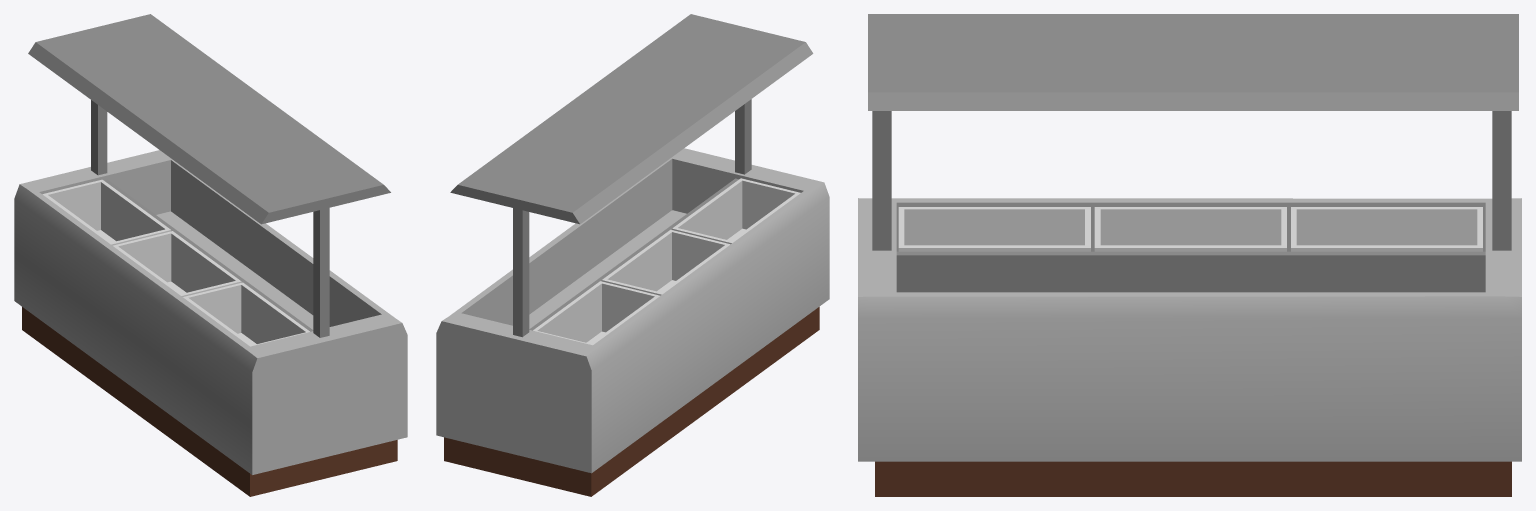
3 renders of one model, left to right at view 1: azimuth 30°, elevation 25°; view 2: azimuth 150°, elevation 25°; view 3: azimuth 270°, elevation 25°, orthographic. The views are drawn at different scales.
Parts seen in each view (by area): view 1: Box10063, Box10070, Box10065, Box10066; view 2: Box10063, Box10065, Box10066, Box10070; view 3: Box10063, Box10065, Box10066, Box10070.
Part boxes in pixels (x1,y1,x2,y2): Box10063: (14,14,407,496); Box10070: (42,179,171,245); Box10065: (113,231,241,296); Box10066: (183,282,309,346); Box10063: (436,14,829,496); Box10065: (601,229,730,295); Box10066: (672,178,800,244); Box10070: (533,281,660,345); Box10063: (858,14,1521,496); Box10065: (1094,207,1286,251); Box10066: (898,207,1090,251); Box10070: (1291,207,1482,251).
Size of the model in its own units: 103 by 178 by 273.
